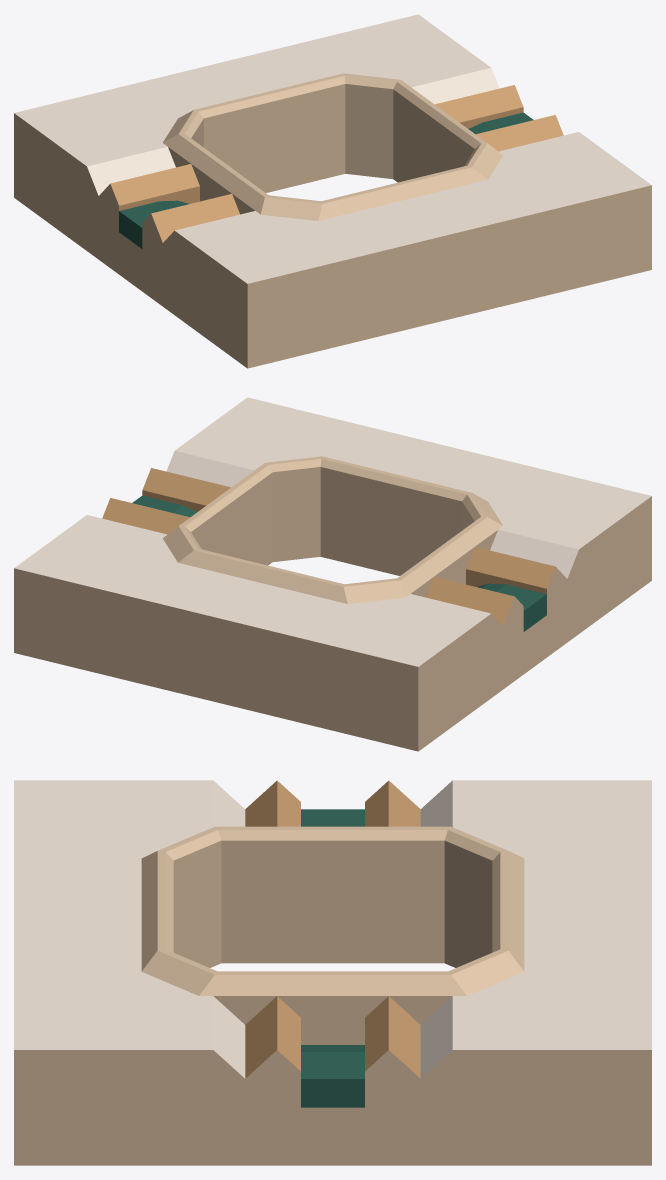
File: Puzzle_Floor_Conduit_Control_Housing_Straight.fbx
3 views of the same model, one above another, from view 1: azimuth 30°, elevation 25°; view 2: azimuth 150°, elevation 25°; view 3: azimuth 270°, elevation 25° (orthographic). The views are drawn at different scales.
Visible parts, largest first — view 1: Sandstone_Trim.Sandstone_Trim.Sandstone_Trim.object3, Sandstone_Floor.Sandstone_Floor.Sandstone_Floor, Sandstone_5.Sandstone_5.Sandstone_5.Sandstone_5, object1, object2; view 2: Sandstone_Trim.Sandstone_Trim.Sandstone_Trim.object3, Sandstone_Floor.Sandstone_Floor.Sandstone_Floor, Sandstone_5.Sandstone_5.Sandstone_5.Sandstone_5, object1, object2; view 3: Sandstone_Trim.Sandstone_Trim.Sandstone_Trim.object3, Sandstone_Floor.Sandstone_Floor.Sandstone_Floor, Sandstone_5.Sandstone_5.Sandstone_5.Sandstone_5, object2, object1.
Part boxes in pixels (box(x1,y1,x2,y2)): Sandstone_Trim.Sandstone_Trim.Sandstone_Trim.object3: box(14, 73, 651, 368); Sandstone_Floor.Sandstone_Floor.Sandstone_Floor: box(14, 14, 651, 283); Sandstone_5.Sandstone_5.Sandstone_5.Sandstone_5: box(110, 85, 563, 242); object1: box(119, 200, 188, 248); object2: box(468, 112, 533, 134); Sandstone_Trim.Sandstone_Trim.Sandstone_Trim.object3: box(14, 456, 651, 751); Sandstone_Floor.Sandstone_Floor.Sandstone_Floor: box(14, 397, 651, 666); Sandstone_5.Sandstone_5.Sandstone_5.Sandstone_5: box(102, 468, 555, 625); object1: box(477, 583, 546, 631); object2: box(132, 495, 197, 517); Sandstone_Trim.Sandstone_Trim.Sandstone_Trim.object3: box(14, 826, 651, 1165); Sandstone_Floor.Sandstone_Floor.Sandstone_Floor: box(14, 780, 651, 1078); Sandstone_5.Sandstone_5.Sandstone_5.Sandstone_5: box(245, 780, 420, 1078); object2: box(301, 1045, 364, 1107); object1: box(301, 809, 364, 826).
Bounding box in the file's own units: 1 × 0.225 × 1.
